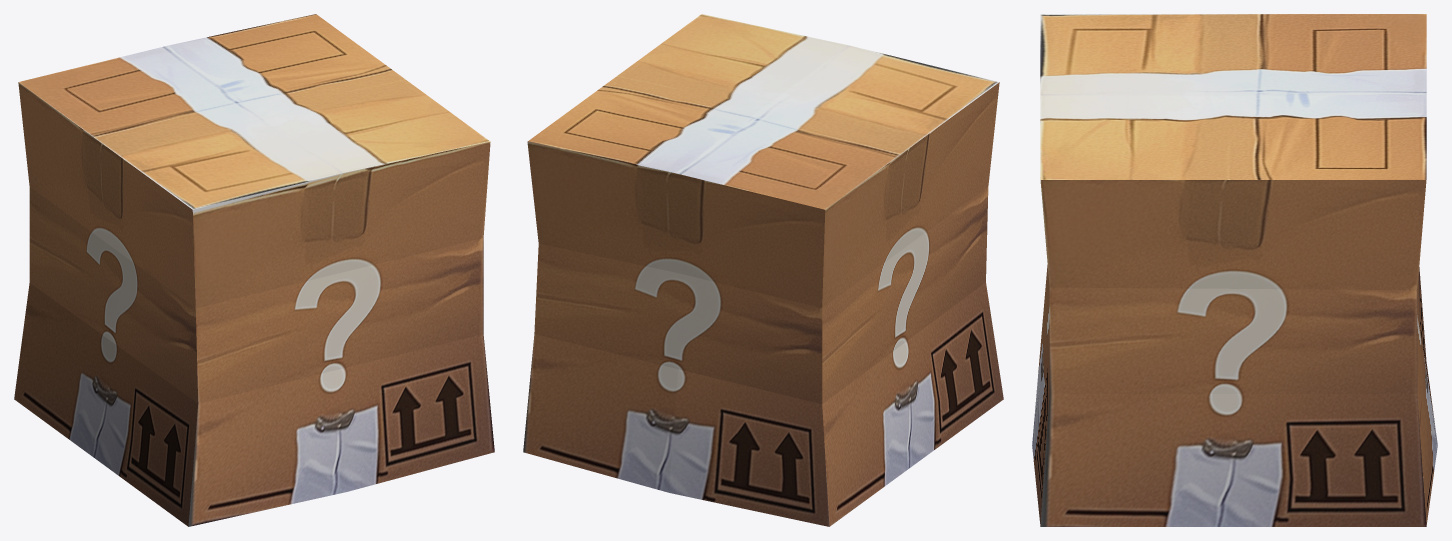
The model's file is MemoryBox.fbx.
3 renders of one model, left to right at view 1: azimuth 30°, elevation 25°; view 2: azimuth 150°, elevation 25°; view 3: azimuth 270°, elevation 25°, orthographic. The views are drawn at different scales.
Parts seen in each view (by area): view 1: Cube; view 2: Cube; view 3: Cube.
Boxes of the visible parts, left/top/right/bottom form: Cube: left=14, top=14, right=494, bottom=526; Cube: left=523, top=14, right=1003, bottom=526; Cube: left=1032, top=14, right=1437, bottom=526.
Size of the model in its own units: 203 by 200 by 210.
Materials: 1 (1 with a texture image).
